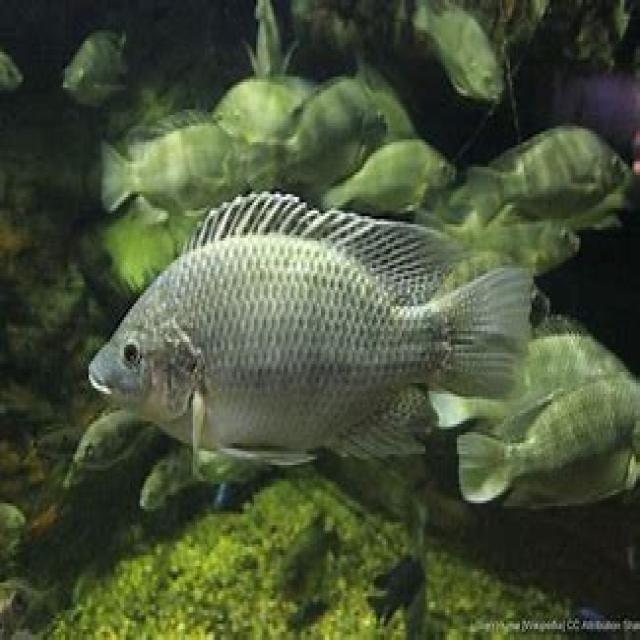Tilapia: (89, 195, 534, 465)
